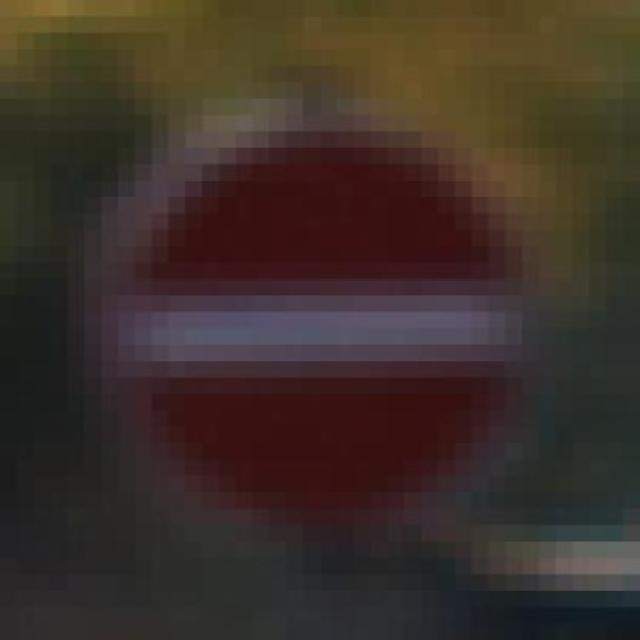B2: (106, 121, 540, 531)
